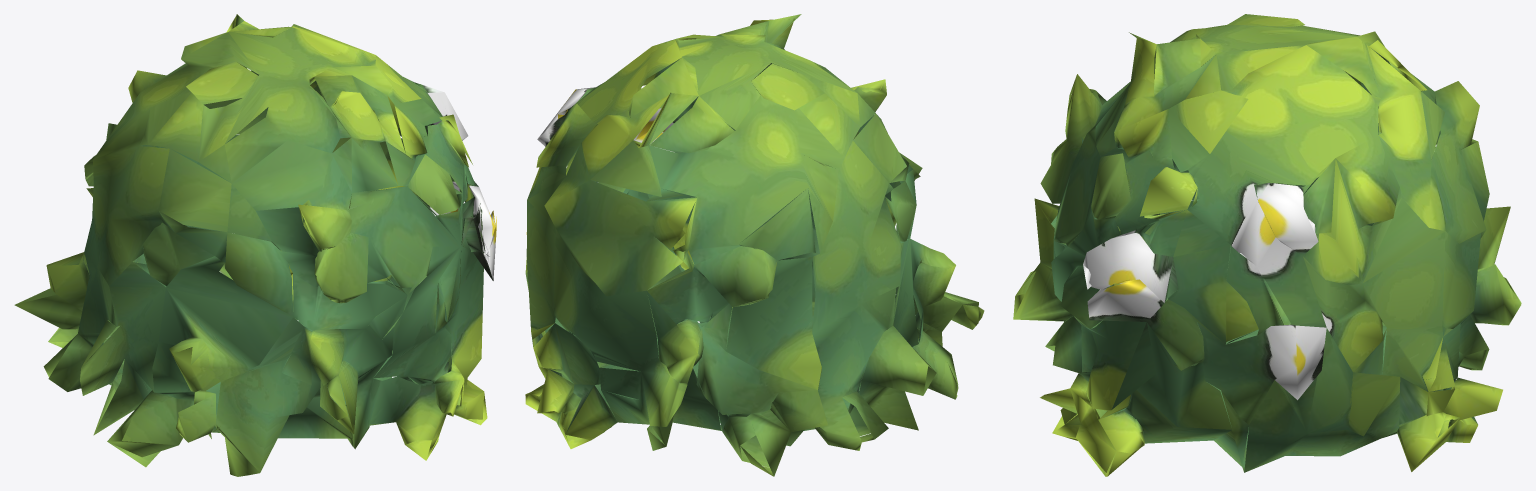
The model's file is M-6_04_bush.glb.
3 renders of one model, left to right at view 1: azimuth 30°, elevation 25°; view 2: azimuth 150°, elevation 25°; view 3: azimuth 270°, elevation 25°, orthographic. The views are drawn at different scales.
Parts seen in each view (by area): view 1: bush; view 2: bush; view 3: bush.
Part boxes in pixels (bbox=[...]): bush: bbox=[14, 14, 496, 476]; bush: bbox=[525, 14, 984, 476]; bush: bbox=[1013, 14, 1521, 476].
Bounding box in the file's own units: 2.09 × 1.78 × 2.15.
1 material, 1 textured.
